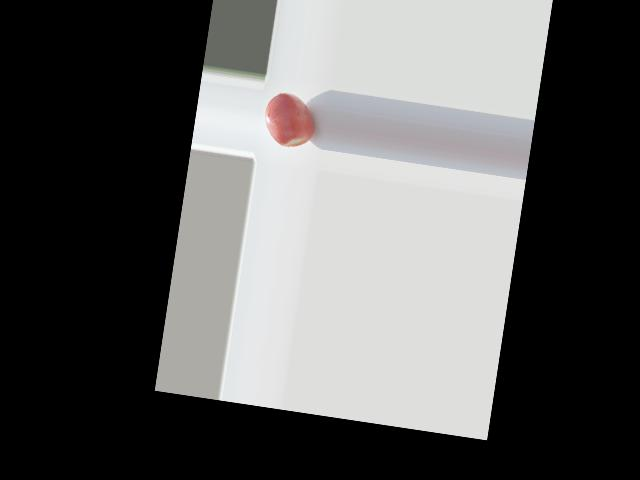tomato: (261, 90, 318, 150)
